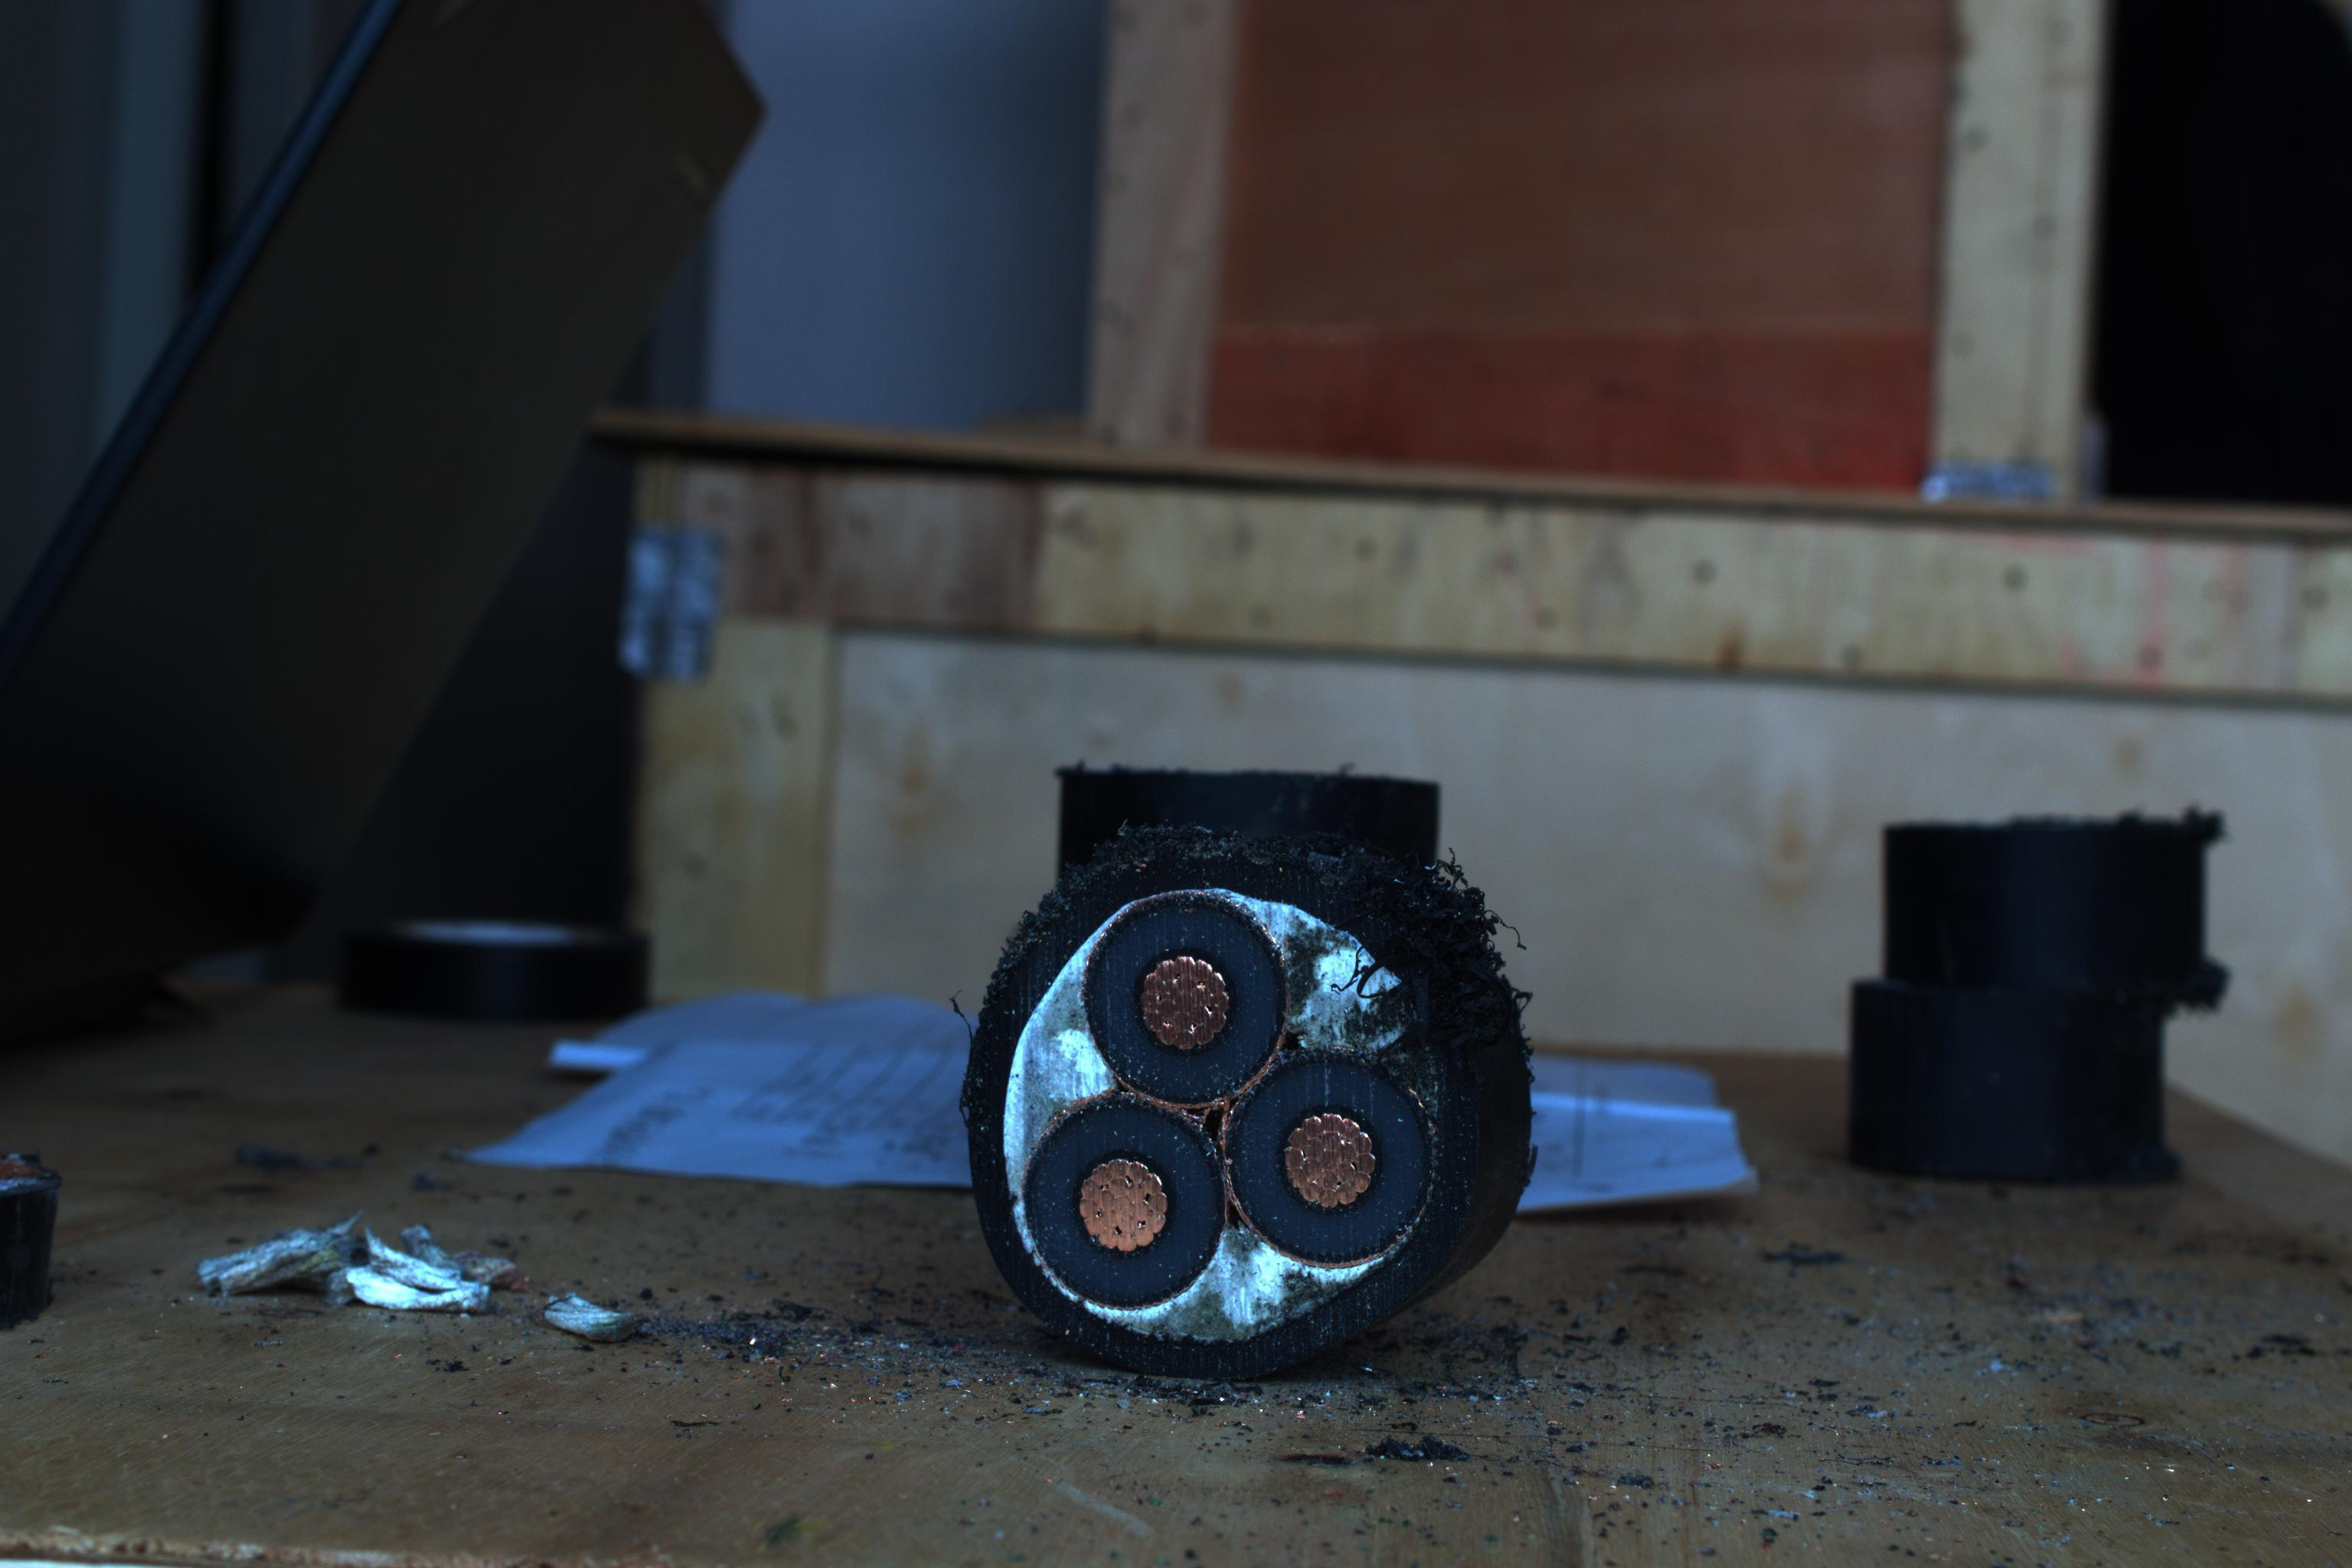YJV_8.7_10kV_3x70: (947, 845, 1487, 1368)
